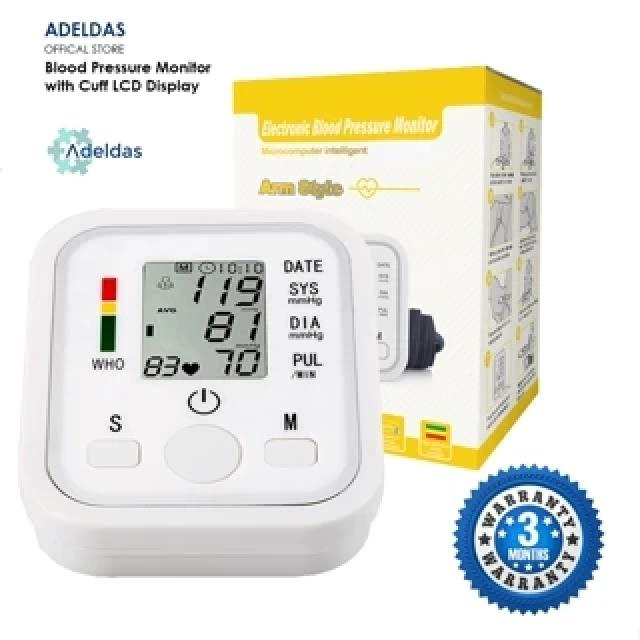dia: (201, 305, 270, 347)
pul: (215, 344, 268, 376)
ssd: (144, 260, 266, 381)
sys: (178, 268, 266, 308)
